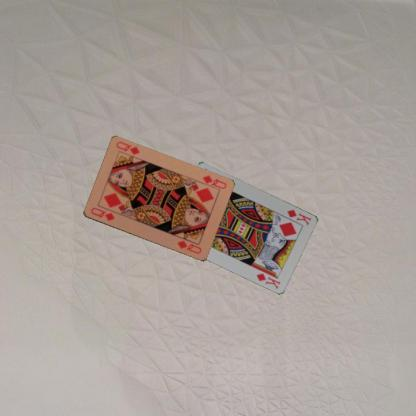Kd: (285, 207, 312, 226)
Qd: (197, 172, 227, 192), (88, 205, 115, 223)
